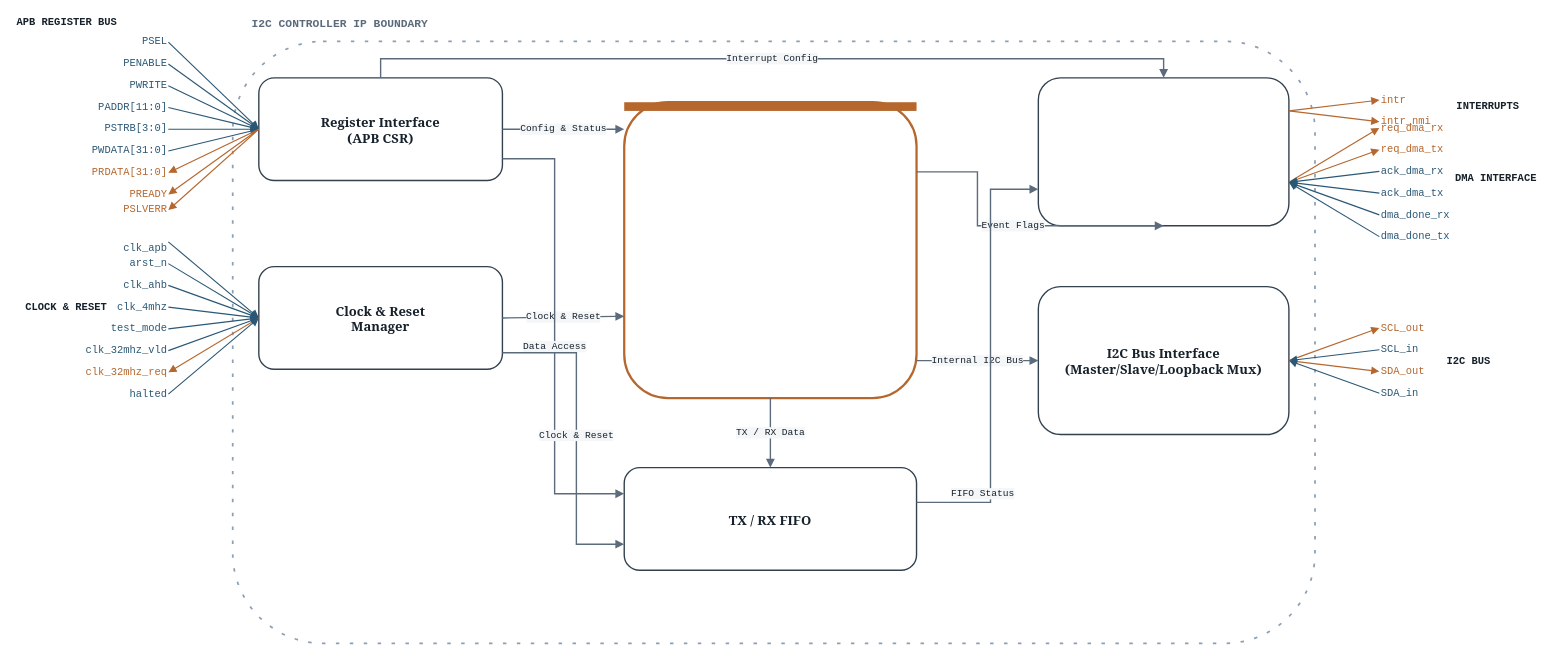
Image size: 1552x659. Some labels were removed from this diagram. Each missing label, with the box of its shape:
I2C Core Master & Slave Engine: (623, 101, 917, 399)
Interrupt & DMA Controller: (1037, 77, 1289, 226)
